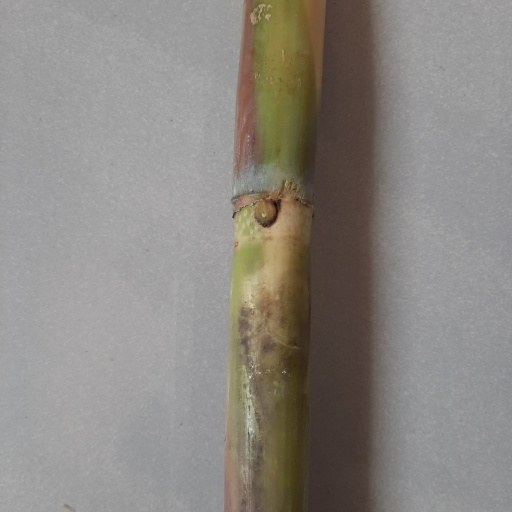Bud: (253, 198, 278, 228)
